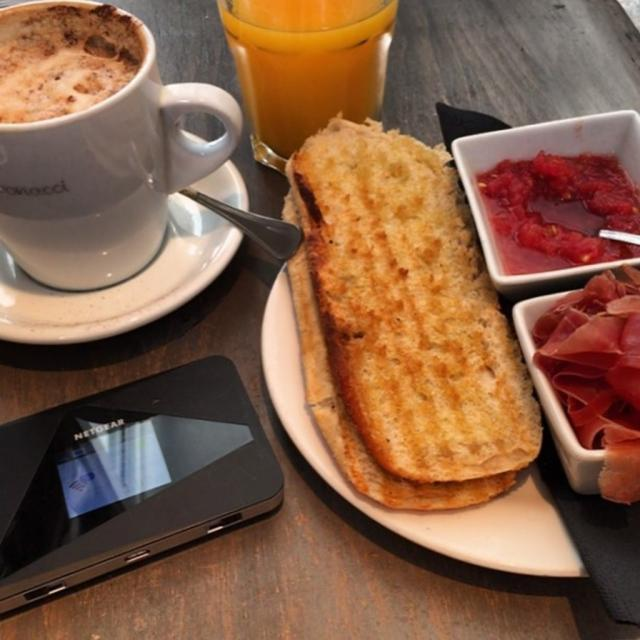Juice: (202, 6, 399, 146)
